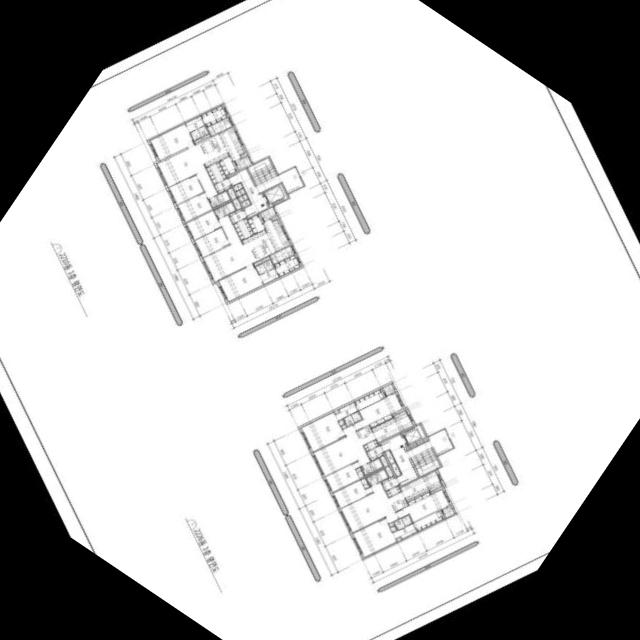background: (0, 0, 640, 640)
space_bedroom: (353, 392, 403, 431), (395, 489, 450, 523), (351, 518, 396, 559), (299, 412, 344, 452), (217, 265, 263, 303), (148, 123, 194, 161), (324, 462, 364, 493), (332, 478, 372, 509), (193, 228, 229, 258), (185, 211, 220, 241), (168, 175, 203, 205), (176, 193, 211, 223)
space_dressroom: (354, 389, 383, 411), (413, 511, 443, 532), (200, 105, 228, 127), (274, 255, 301, 277), (334, 402, 357, 421), (392, 524, 417, 540)
space_elevator: (262, 184, 287, 207), (401, 425, 425, 446)
space_elevator_hall: (380, 430, 452, 486), (228, 168, 303, 217)
space_front: (233, 218, 253, 241), (206, 162, 225, 184), (366, 446, 384, 461), (214, 179, 231, 194), (229, 209, 246, 224), (381, 476, 398, 491)
space_kitchen: (388, 470, 443, 512), (242, 219, 290, 264), (355, 410, 413, 446), (194, 127, 245, 167), (219, 157, 236, 176), (247, 215, 264, 234)
space_living_room: (202, 215, 251, 283), (155, 146, 217, 199), (312, 425, 370, 477), (340, 483, 398, 533)
space_other: (269, 246, 295, 265), (207, 118, 232, 137), (363, 440, 379, 452), (385, 486, 400, 498), (194, 135, 209, 144), (254, 257, 269, 266), (384, 451, 394, 464), (391, 463, 400, 477), (384, 466, 393, 478), (227, 188, 236, 200), (232, 199, 241, 210), (379, 456, 388, 467), (392, 409, 404, 416), (430, 487, 442, 494), (416, 439, 427, 446), (236, 189, 245, 197), (233, 183, 242, 191), (238, 194, 247, 202), (241, 200, 250, 208), (406, 444, 416, 451), (271, 216, 277, 221), (396, 537, 401, 542), (333, 410, 339, 414), (388, 523, 394, 527), (341, 425, 346, 429)
space_outdoor_room: (259, 207, 276, 222), (234, 156, 251, 171), (440, 506, 454, 519), (381, 384, 395, 397)
space_staircase: (247, 158, 276, 186), (410, 448, 439, 476)
space_toilet: (366, 469, 388, 487), (208, 191, 230, 208), (361, 459, 382, 476), (214, 202, 235, 219), (259, 268, 278, 285), (185, 117, 204, 133), (350, 411, 362, 423), (255, 263, 266, 275), (190, 129, 201, 141), (401, 515, 412, 527), (343, 415, 354, 427), (262, 260, 273, 271), (197, 126, 208, 137), (393, 519, 404, 530)
